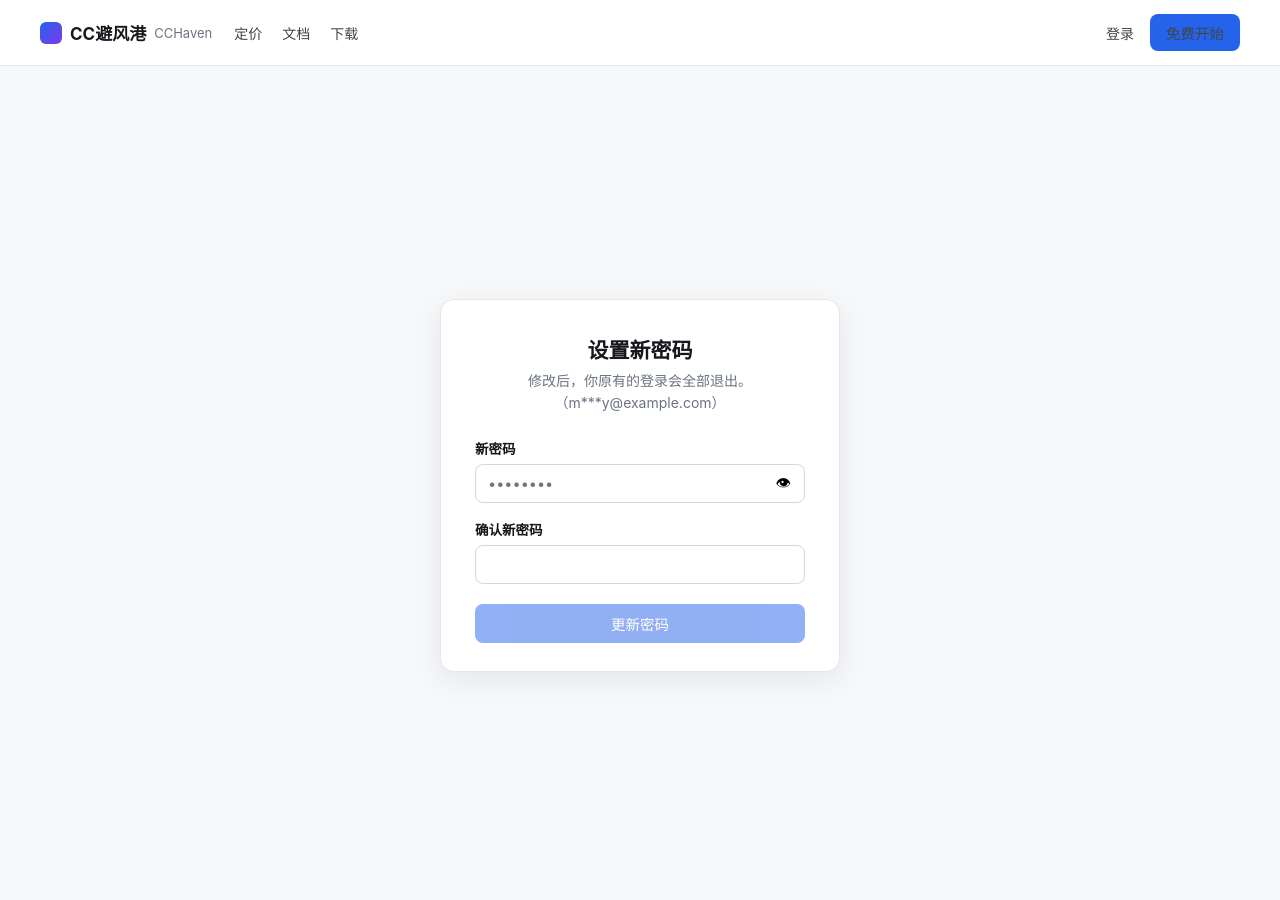
it: 重设密码 /reset-password › token 有效时可设置新密码，成功后提示所有设备已退出
Type "Password123" into the password field labelled "新密码" at (640,484), box [475,464,805,503]
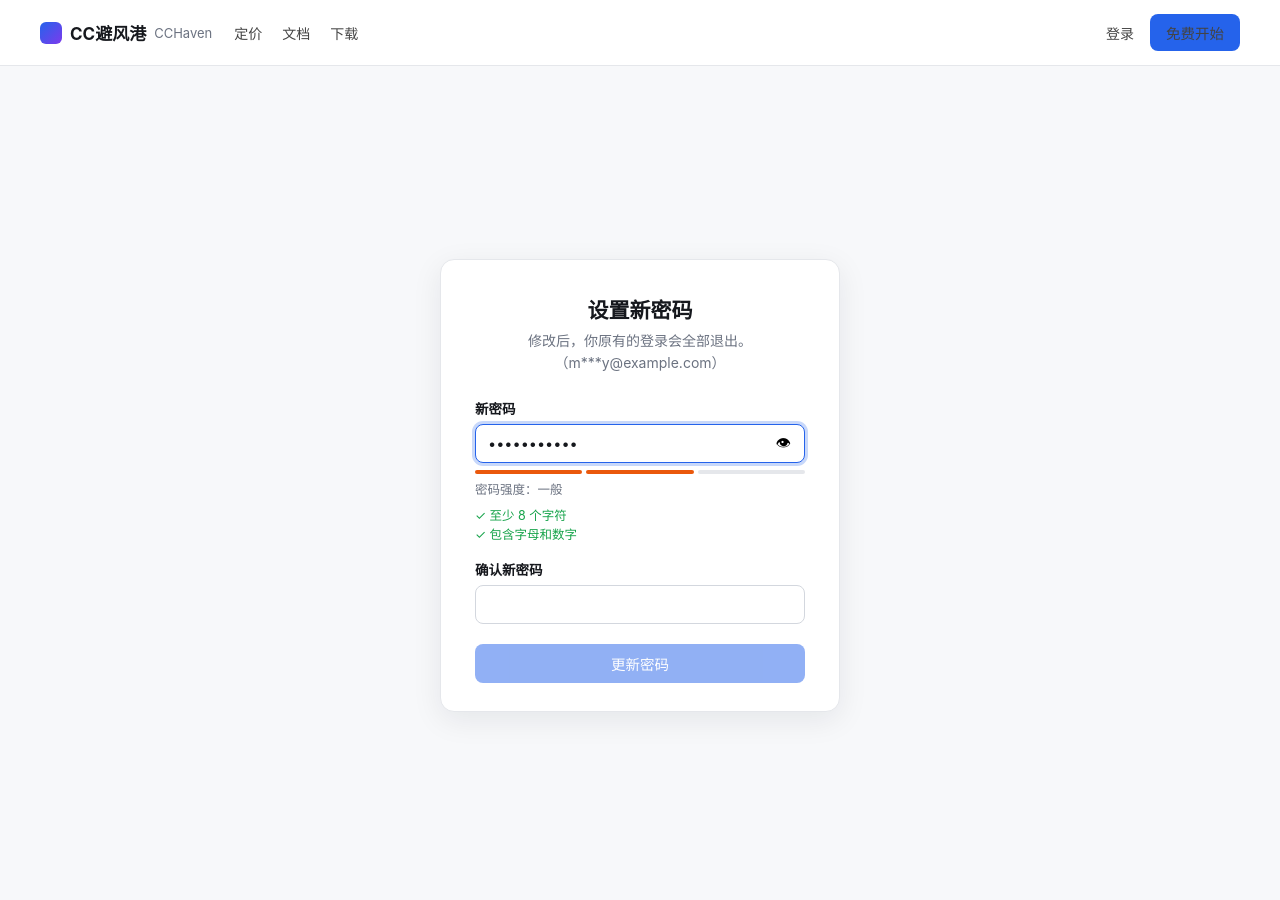
Type "Password123" into the password field labelled "确认新密码" at (640,605), box [475,585,805,624]
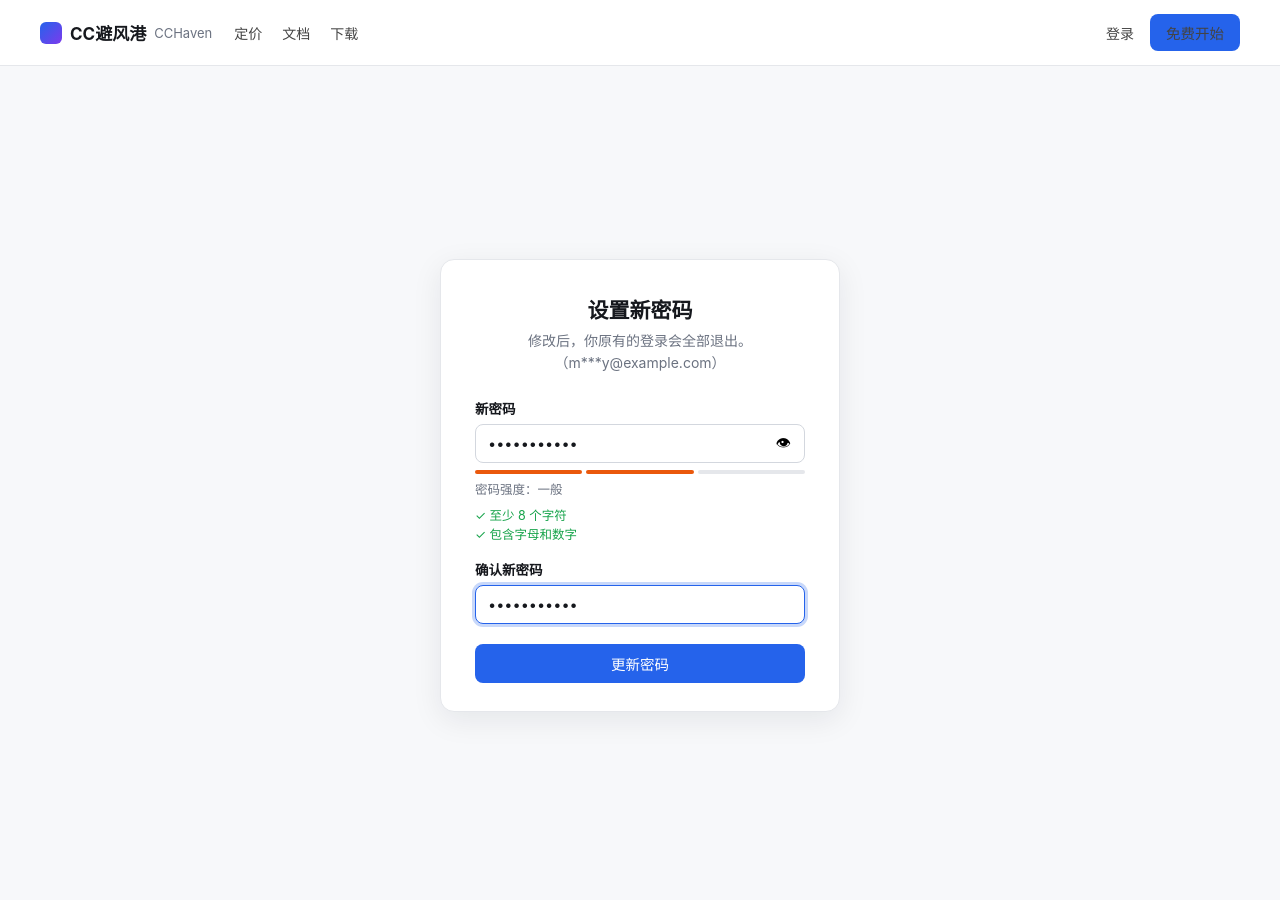
Click the button "更新密码" at (640,664), box [475,644,805,683]
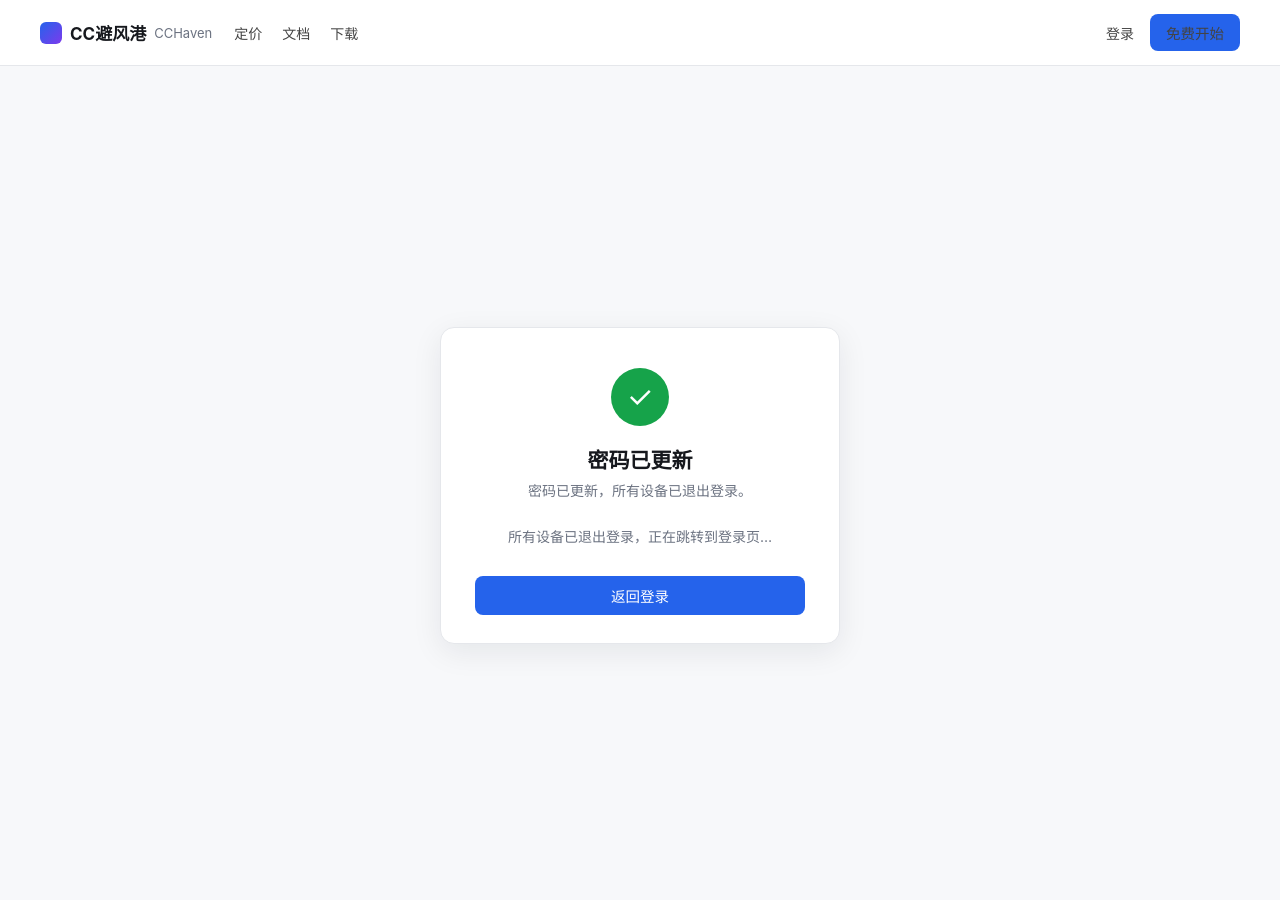
Check: the text "密码已更新，所有设备已退出登录。" is shown, box [528,482,752,499]
